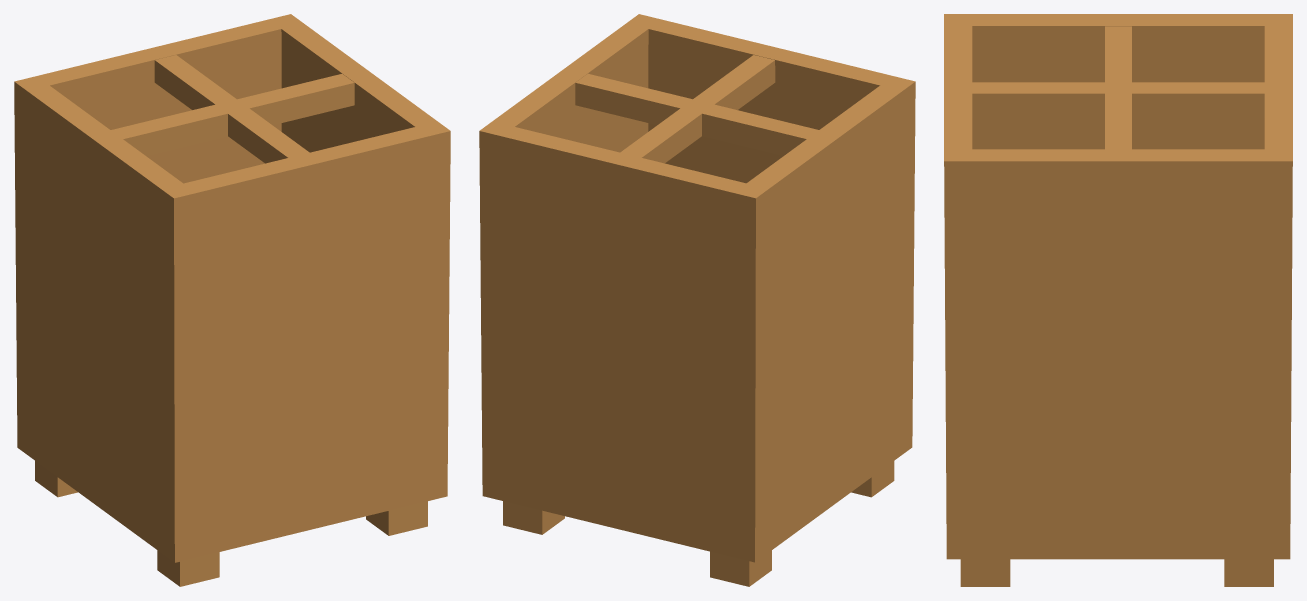
File: Pfeilhalter.fbx
3 views of the same model, side by side, from view 1: azimuth 30°, elevation 25°; view 2: azimuth 150°, elevation 25°; view 3: azimuth 270°, elevation 25° (orthographic). The views are drawn at different scales.
Visible parts, largest first — view 1: Pfeilbehälter; view 2: Pfeilbehälter; view 3: Pfeilbehälter.
Boxes of the visible parts, x1,y1,x2,y2 form: Pfeilbehälter: (14, 14, 450, 586); Pfeilbehälter: (479, 14, 915, 586); Pfeilbehälter: (944, 14, 1292, 586).
Size of the model in its own units: 0.6767 by 0.9284 by 0.6767.
